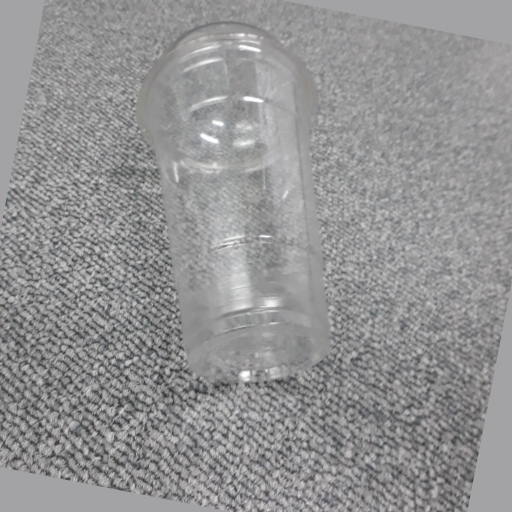Plastic_2: (135, 23, 343, 387)
